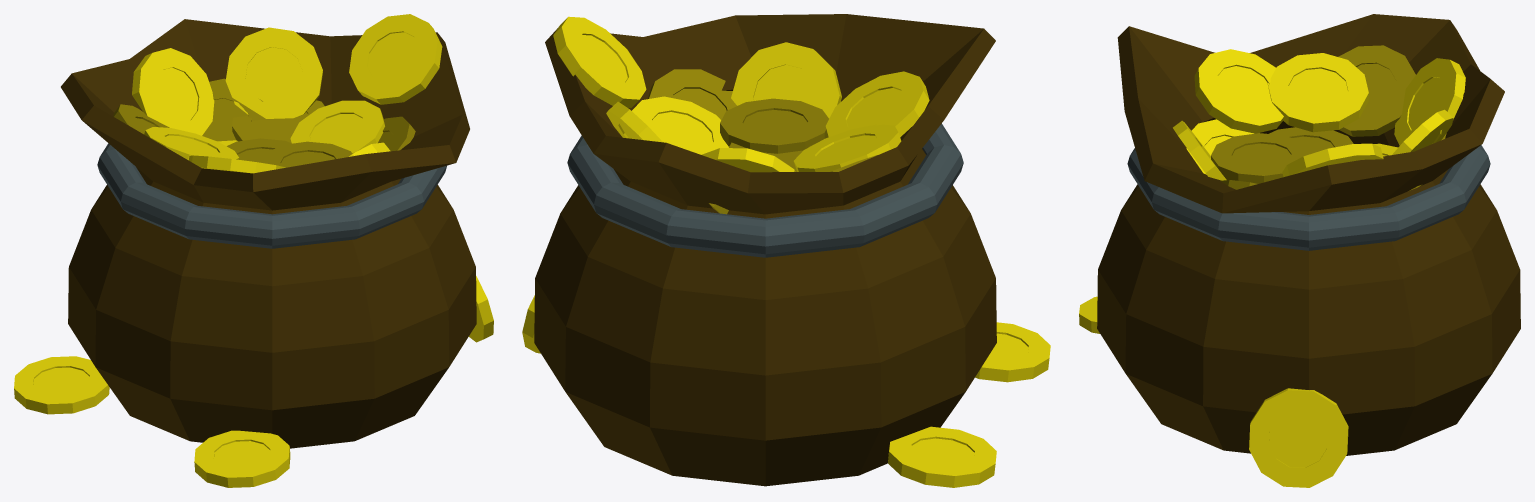
Rendered from CoinPouch.fbx.
3 views of the same model, side by side, from view 1: azimuth 30°, elevation 25°; view 2: azimuth 150°, elevation 25°; view 3: azimuth 270°, elevation 25° (orthographic). The views are drawn at different scales.
Visible parts, largest first — view 1: CoinPouch, Chord, Cylinder.013, Cylinder.017, Cylinder.005, Cylinder.018, Cylinder.016, Cylinder.003, Cylinder.007, Cylinder.014, Cylinder.010, Cylinder.004 (+5 smaller); view 2: CoinPouch, Chord, Cylinder.001, Cylinder.016, Cylinder.017, Cylinder.004, Cylinder.008, Cylinder.003, Cylinder.018, Cylinder.007, Cylinder.002, Cylinder.005 (+1 smaller); view 3: CoinPouch, Chord, Cylinder.019, Cylinder.007, Cylinder.008, Cylinder.006, Cylinder.004, Cylinder.005, Cylinder.017, Cylinder.013, Cylinder.011, Cylinder.009 (+2 smaller).
Boxes of the visible parts, x1,y1,x2,y2 form: CoinPouch: (61, 19, 476, 448); Chord: (97, 143, 446, 248); Cylinder.013: (225, 27, 322, 118); Cylinder.017: (349, 14, 442, 104); Cylinder.005: (132, 48, 214, 135); Cylinder.018: (194, 430, 290, 487); Cylinder.016: (14, 356, 109, 414); Cylinder.003: (290, 100, 384, 153); Cylinder.007: (144, 127, 239, 160); Cylinder.014: (202, 78, 265, 141); Cylinder.010: (232, 100, 324, 142); Cylinder.004: (261, 141, 352, 167); CoinPouch: (534, 14, 996, 486); Chord: (567, 123, 963, 257); Cylinder.001: (731, 42, 841, 118); Cylinder.016: (888, 426, 996, 487); Cylinder.017: (553, 16, 646, 107); Cylinder.004: (720, 98, 828, 153); Cylinder.008: (825, 71, 929, 137); Cylinder.003: (632, 96, 728, 154); Cylinder.018: (975, 322, 1050, 382); Cylinder.007: (793, 124, 901, 171); Cylinder.002: (648, 69, 736, 120); Cylinder.005: (701, 148, 795, 172); CoinPouch: (1097, 14, 1520, 455); Chord: (1127, 145, 1490, 250); Cylinder.019: (1249, 388, 1348, 487); Cylinder.007: (1267, 53, 1368, 132); Cylinder.008: (1194, 49, 1283, 133); Cylinder.006: (1338, 45, 1415, 136); Cylinder.004: (1211, 133, 1311, 183); Cylinder.005: (1394, 58, 1465, 145); Cylinder.017: (1282, 143, 1383, 176); Cylinder.013: (1392, 109, 1453, 154); Cylinder.011: (1269, 127, 1353, 153); Cylinder.009: (1186, 119, 1253, 174).
Bounding box in the file's own units: 313 × 219 × 270.
